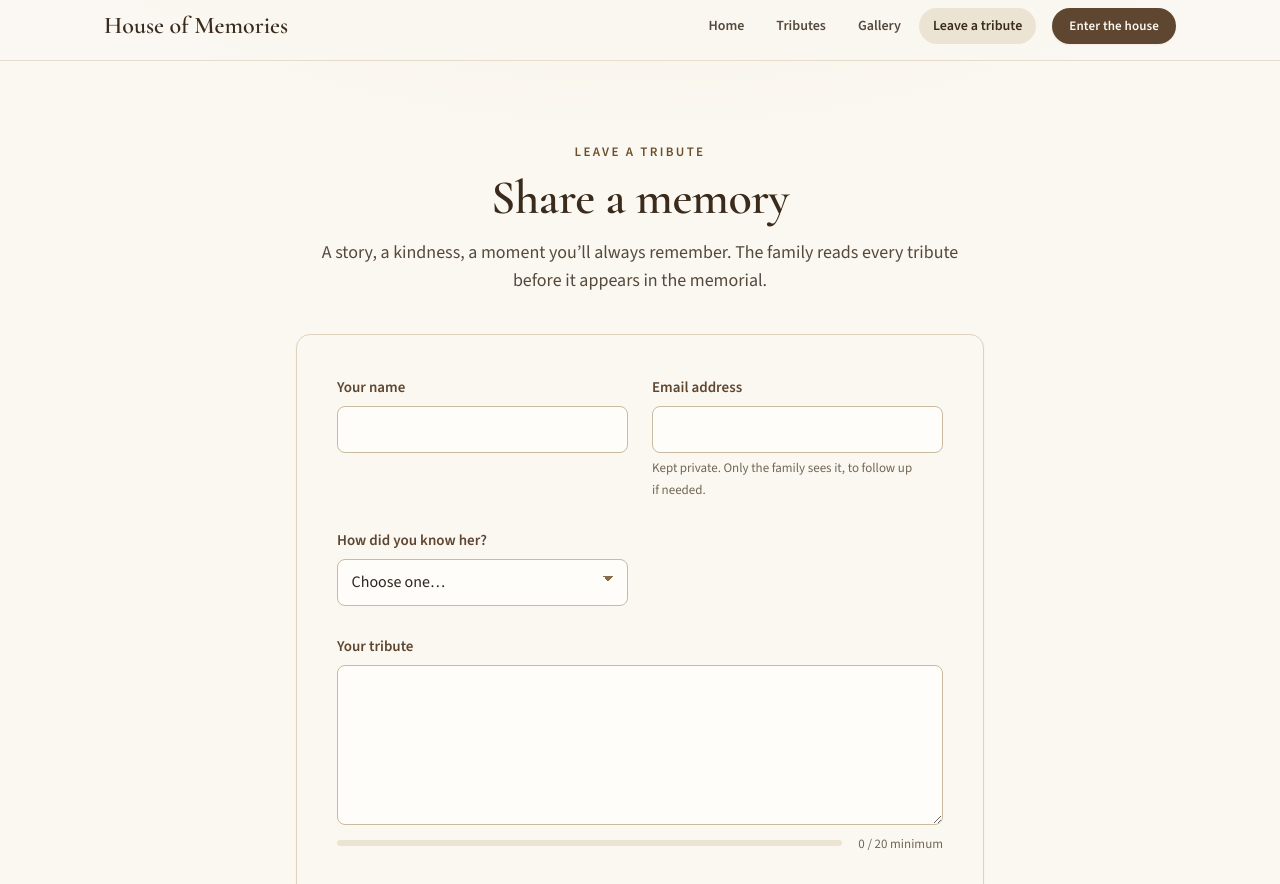
it: tribute submission form › submits with an Idempotency-Key header + matching submissionId and shows the success message
This screenshot has width=1280, height=884.
Type "Jane Doe" into the field labelled "Your name" at (482, 430), box [337,406,628,453]
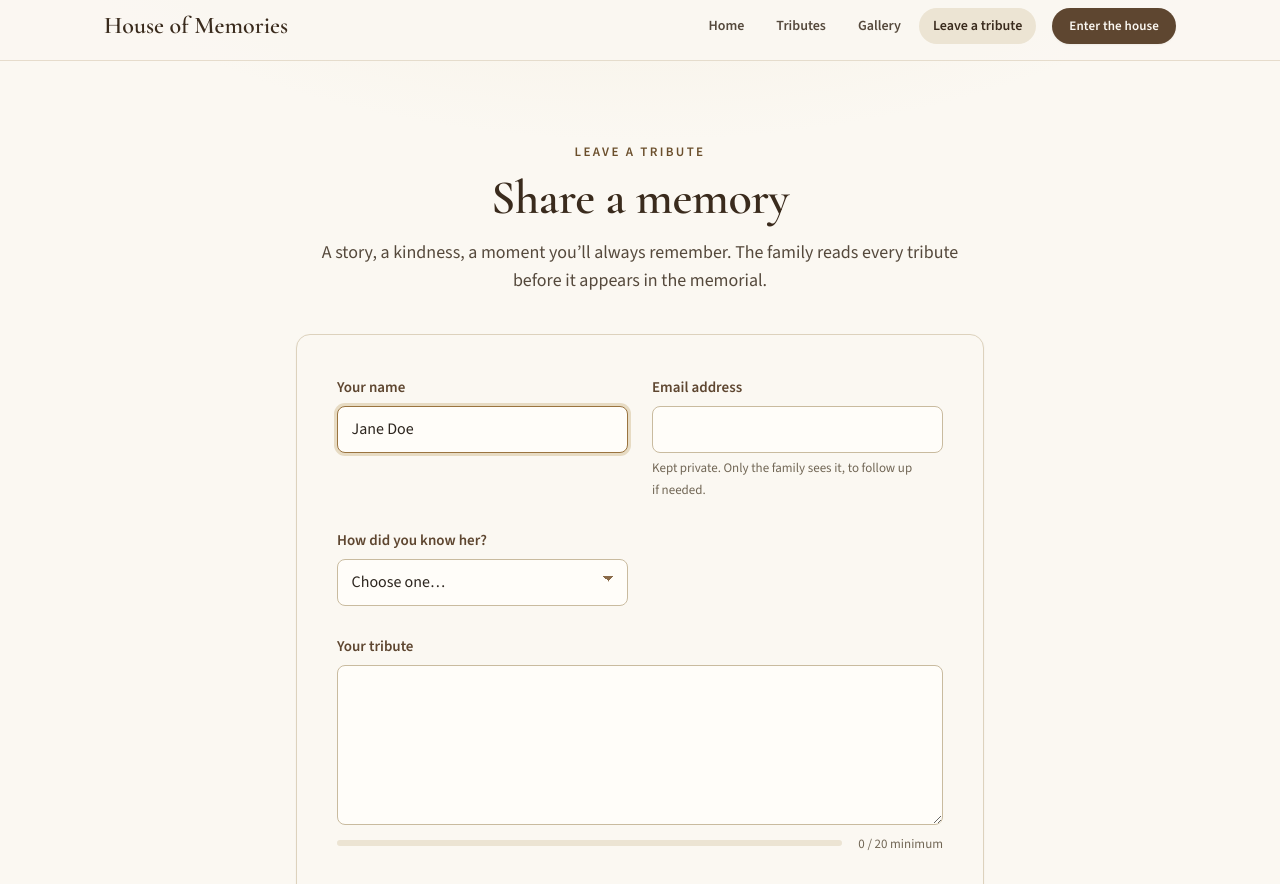
Type "jane@example.com" into the field labelled "Email address" at (798, 430), box [652,406,943,453]
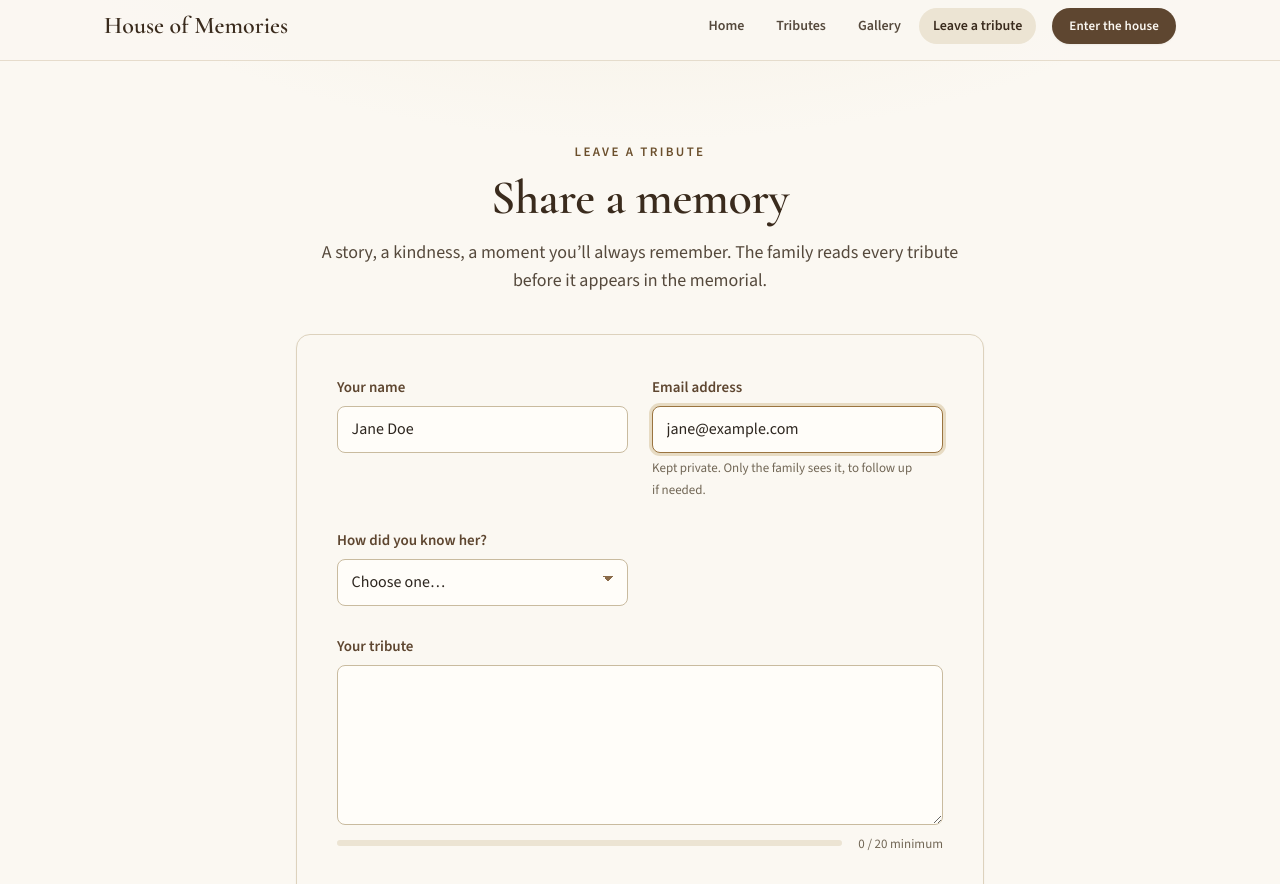
Select "Grandchildren" in the dropdown labelled "How did you know her?" at (482, 582), box [337,559,628,606]
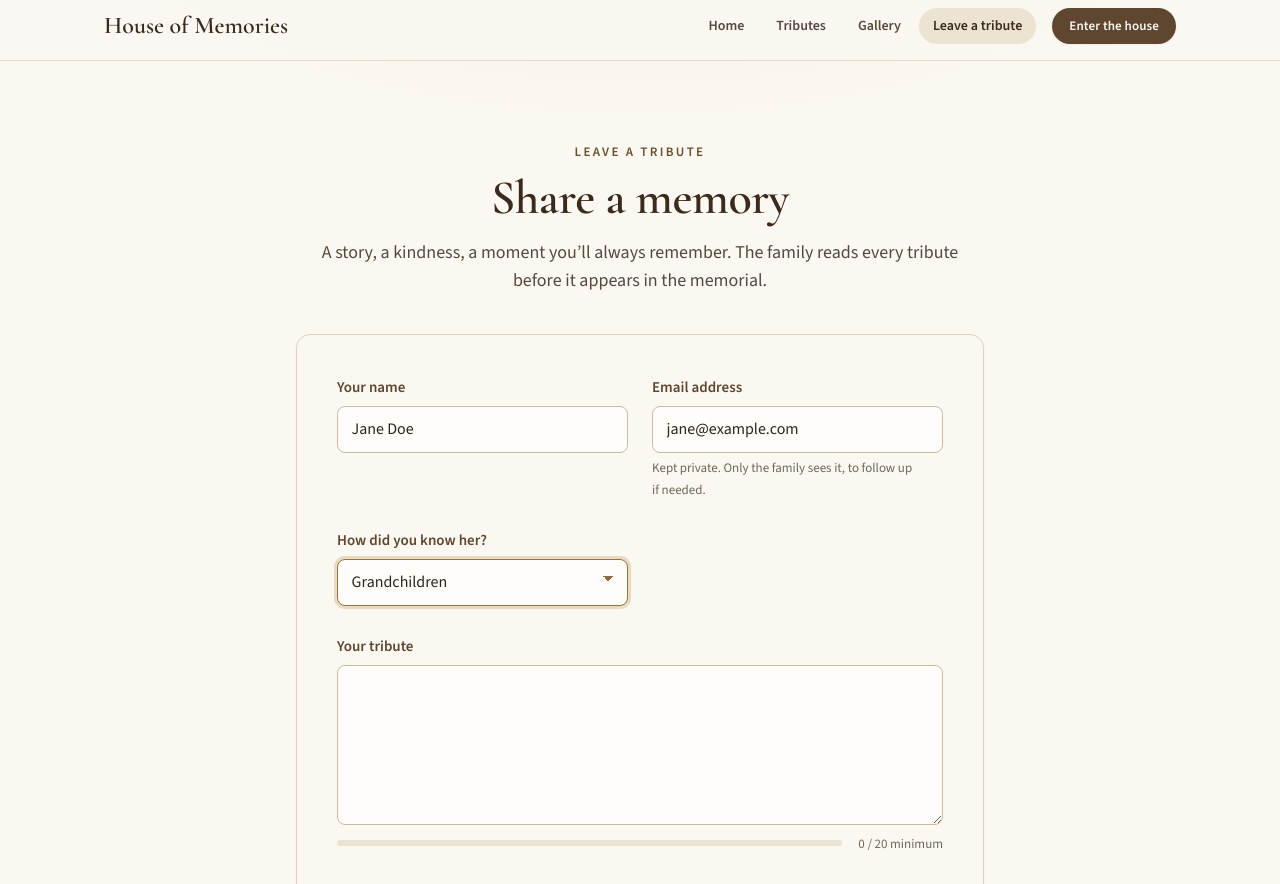
Type "Grandma taught me to bake bread on Sunday mornings and I still hear her humming." into the text box labelled "Your tribute" at (640, 744), box [337,664,943,824]
(page scrolled)
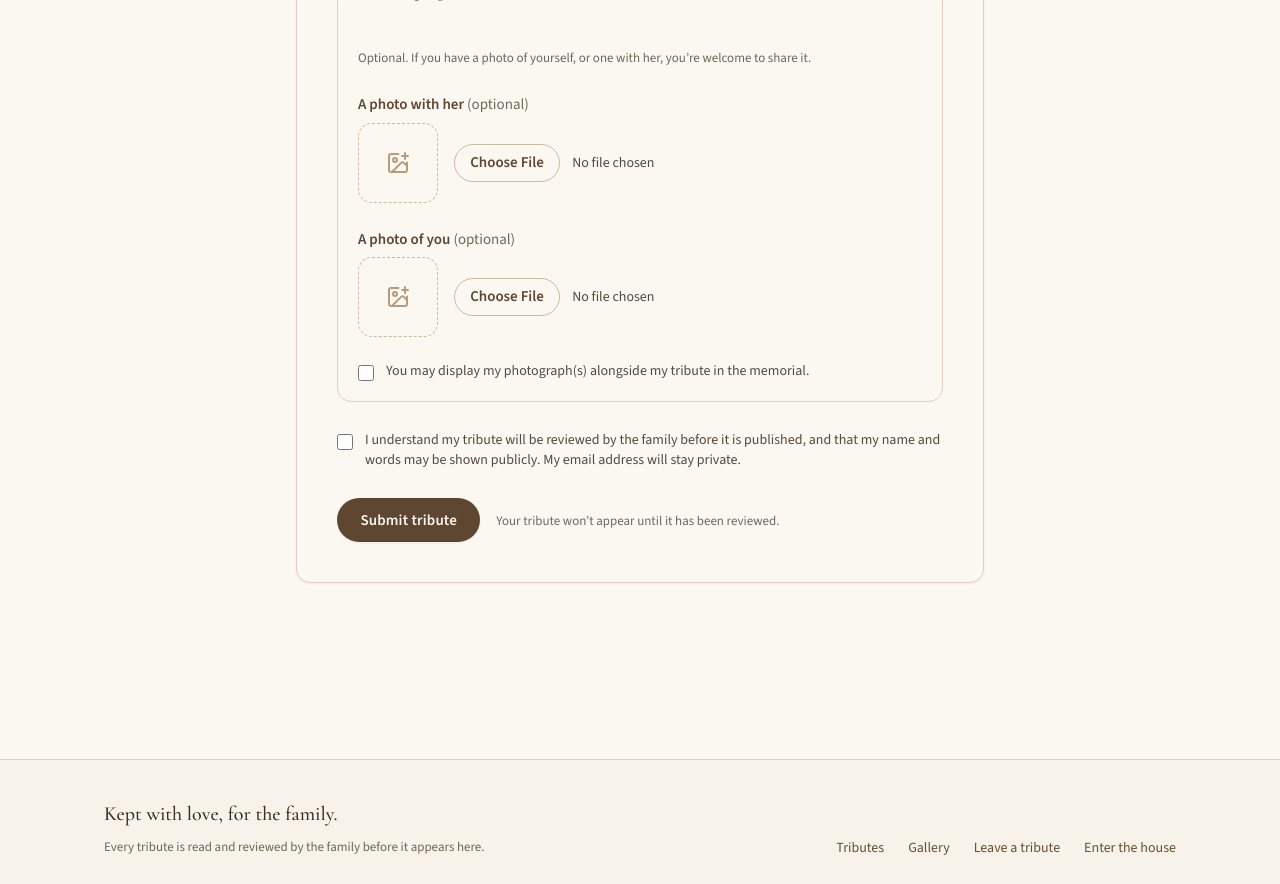
Click the checkbox labelled "I understand my tribute will be reviewed" at (345, 442), box [337,434,353,450]
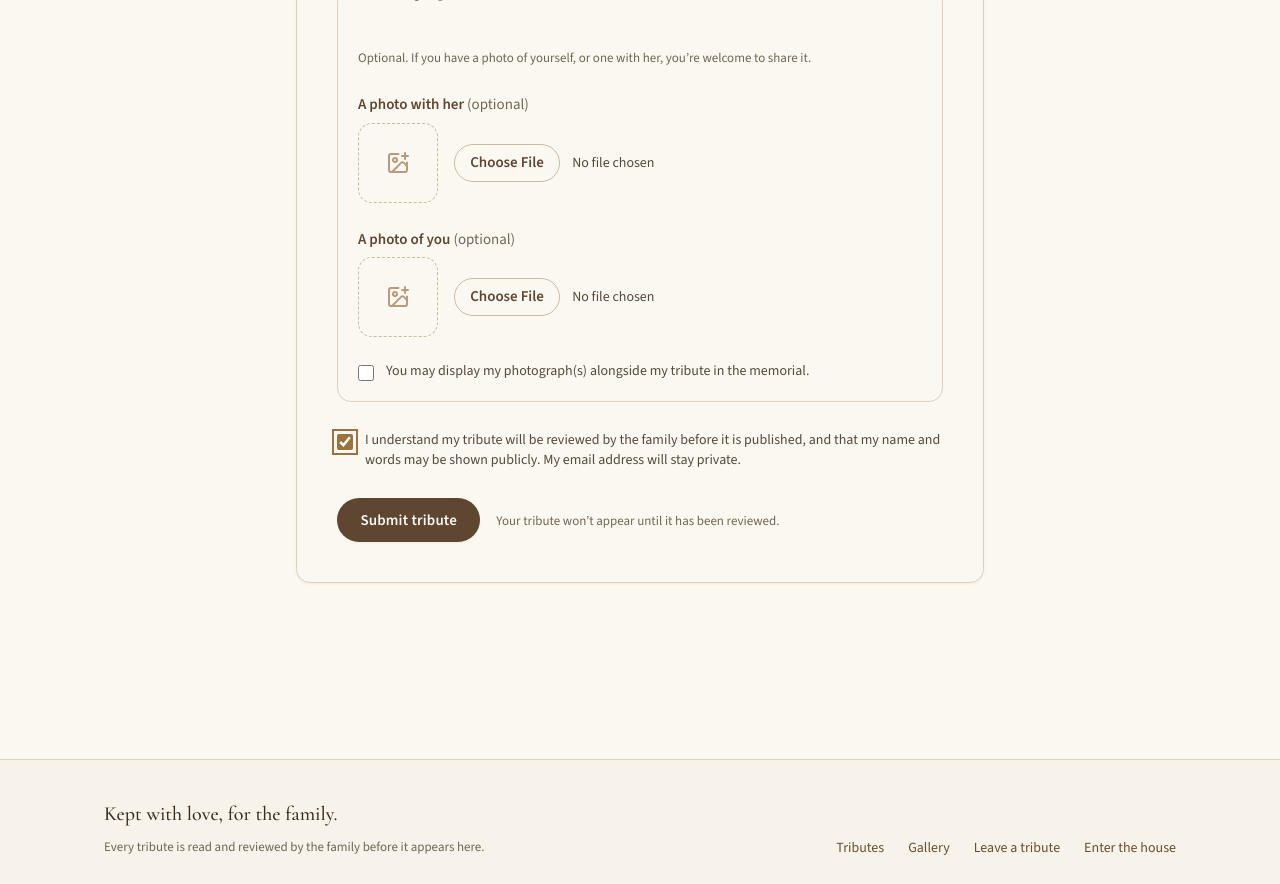
Click the button "Submit tribute" at (409, 520), box [337,498,480,542]
(page scrolled)
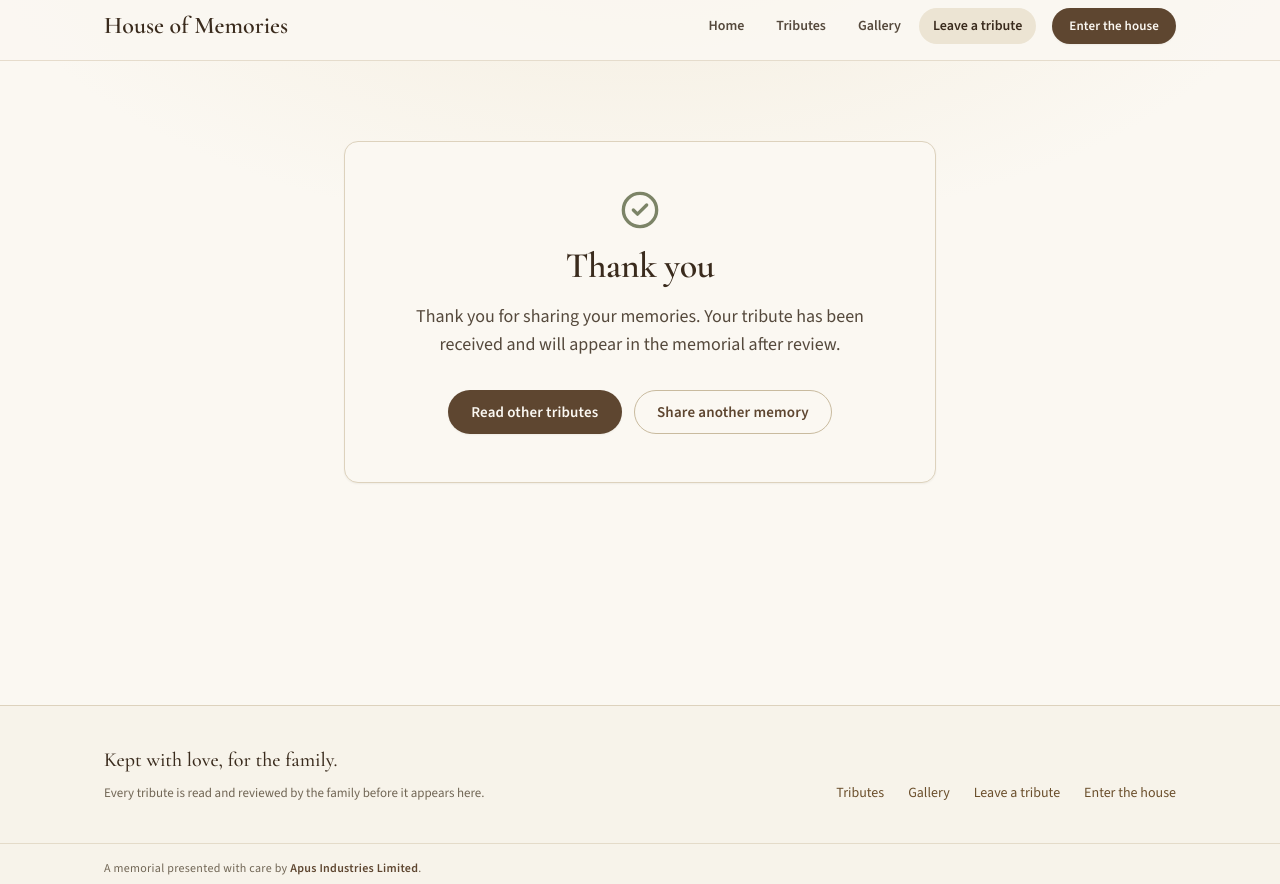
Expected: the text "Thank you for sharing your memories. Your tribute has been received and will appear in the memorial after review." is shown, [416,304,864,356]
